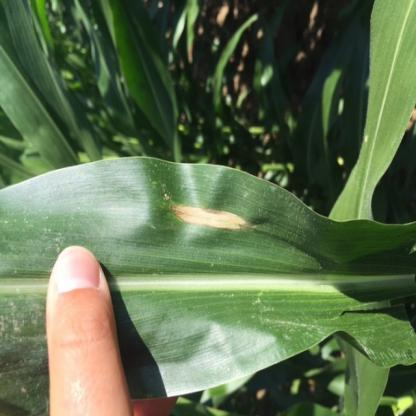Corn leaf blight: (118, 155, 415, 362)
